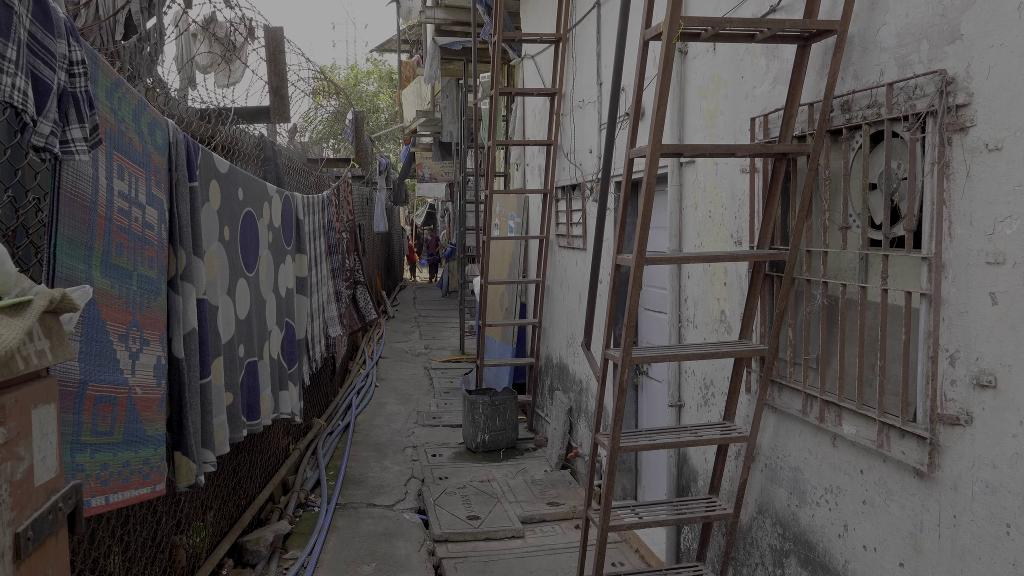dustbin: (460, 385, 521, 454)
